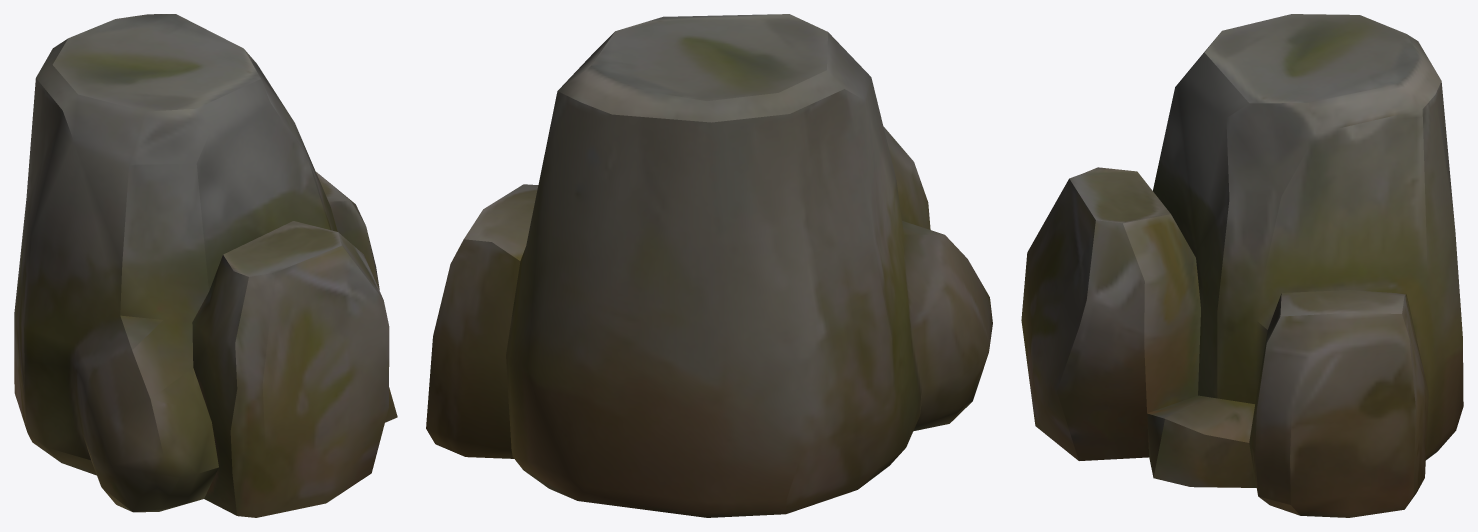
The model's file is Stone_A_001_005.fbx.
3 views of the same model, side by side, from view 1: azimuth 30°, elevation 25°; view 2: azimuth 150°, elevation 25°; view 3: azimuth 270°, elevation 25° (orthographic). The views are drawn at different scales.
Parts seen in each view (by area): view 1: Stone_A_001_005_LOD0; view 2: Stone_A_001_005_LOD0; view 3: Stone_A_001_005_LOD0.
Boxes of the visible parts, <box> form: Stone_A_001_005_LOD0: <box>14,14,397,517</box>; Stone_A_001_005_LOD0: <box>426,14,992,517</box>; Stone_A_001_005_LOD0: <box>1021,14,1463,517</box>.
Size of what is drawn, in the model's own units: 427 by 409 by 450.
1 material, 1 textured.
